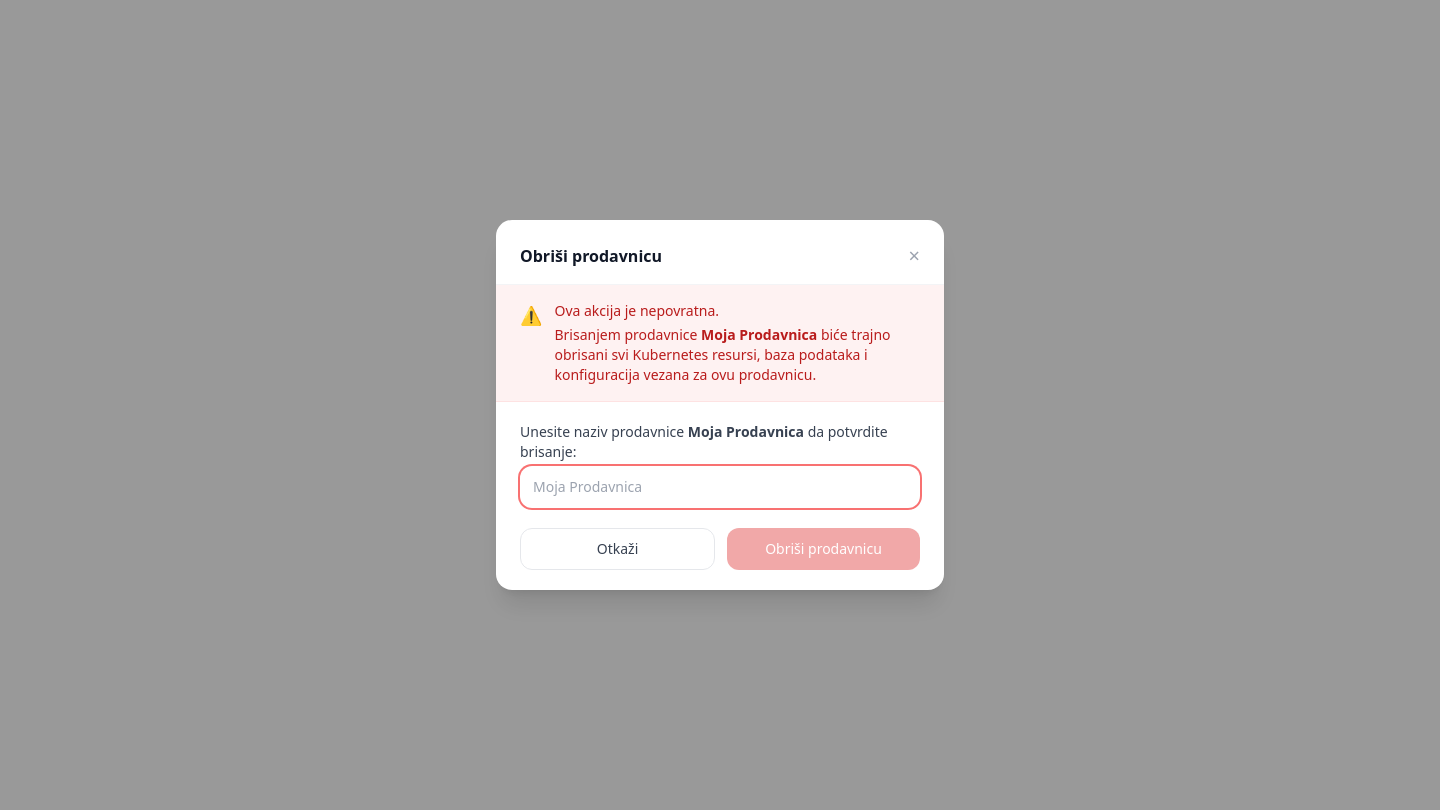
DeleteStoreModal › submit button is disabled until correct name is typed
Expected: the button "Obriši prodavnicu" is disabled, [727,528,920,570]
Step 1. Type "Moja " into the field with placeholder "Moja Prodavnica" → (720, 487), box [520,466,920,508]
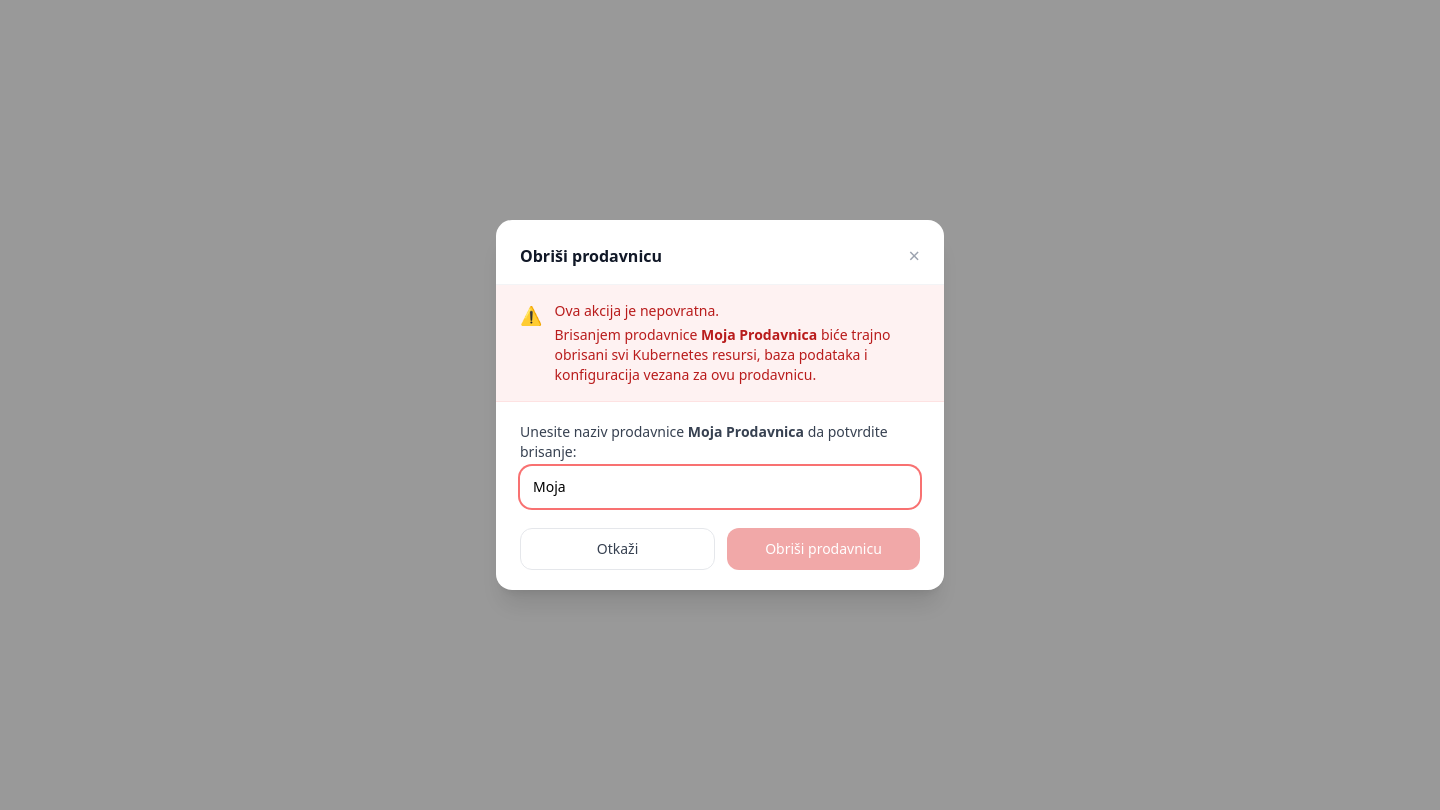
Expected: the button "Obriši prodavnicu" is disabled, [727,528,920,570]
Step 2. Type "Prodavnica" into the field with placeholder "Moja Prodavnica" → (720, 487), box [520,466,920,508]
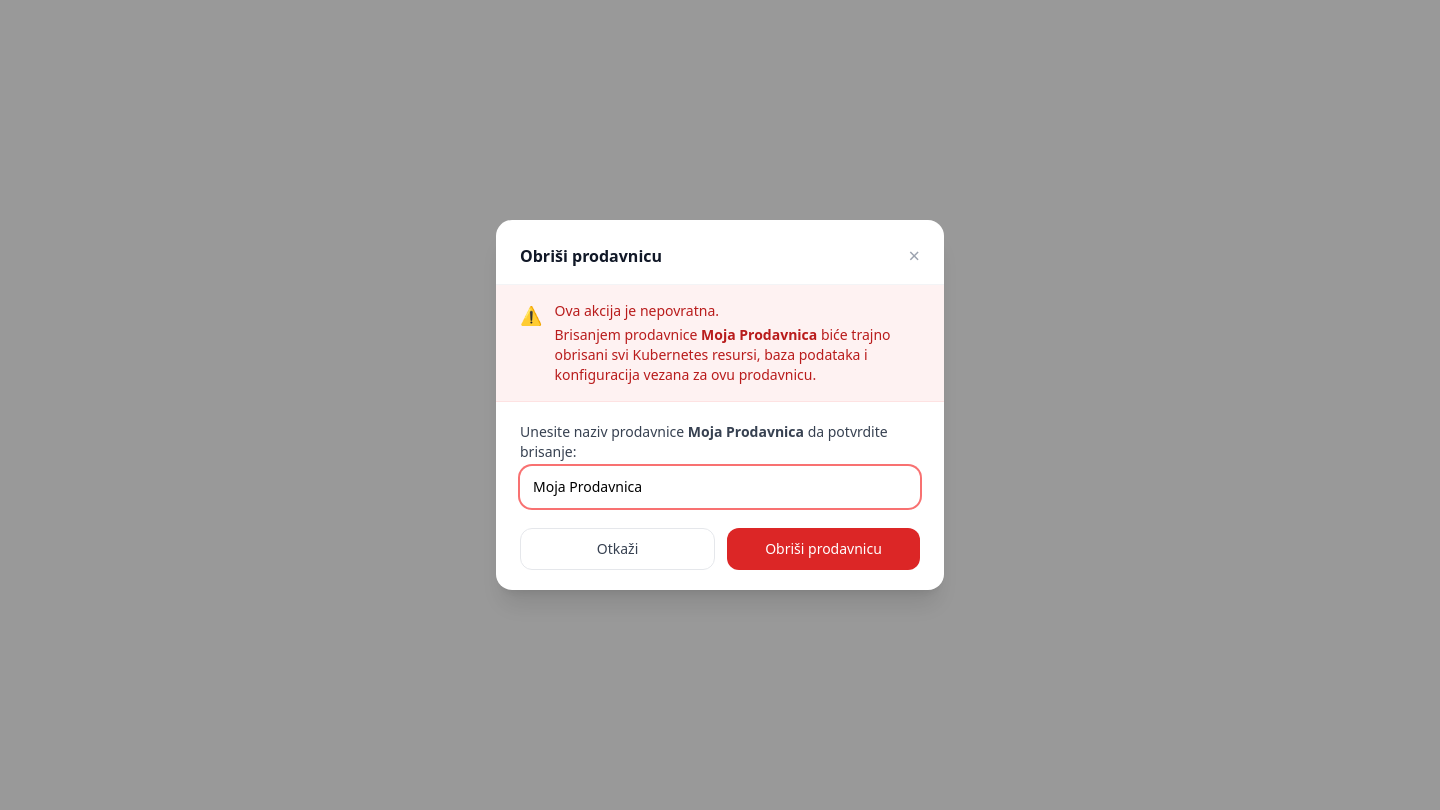
Now the button "Obriši prodavnicu" is enabled, box [727,528,920,570]
